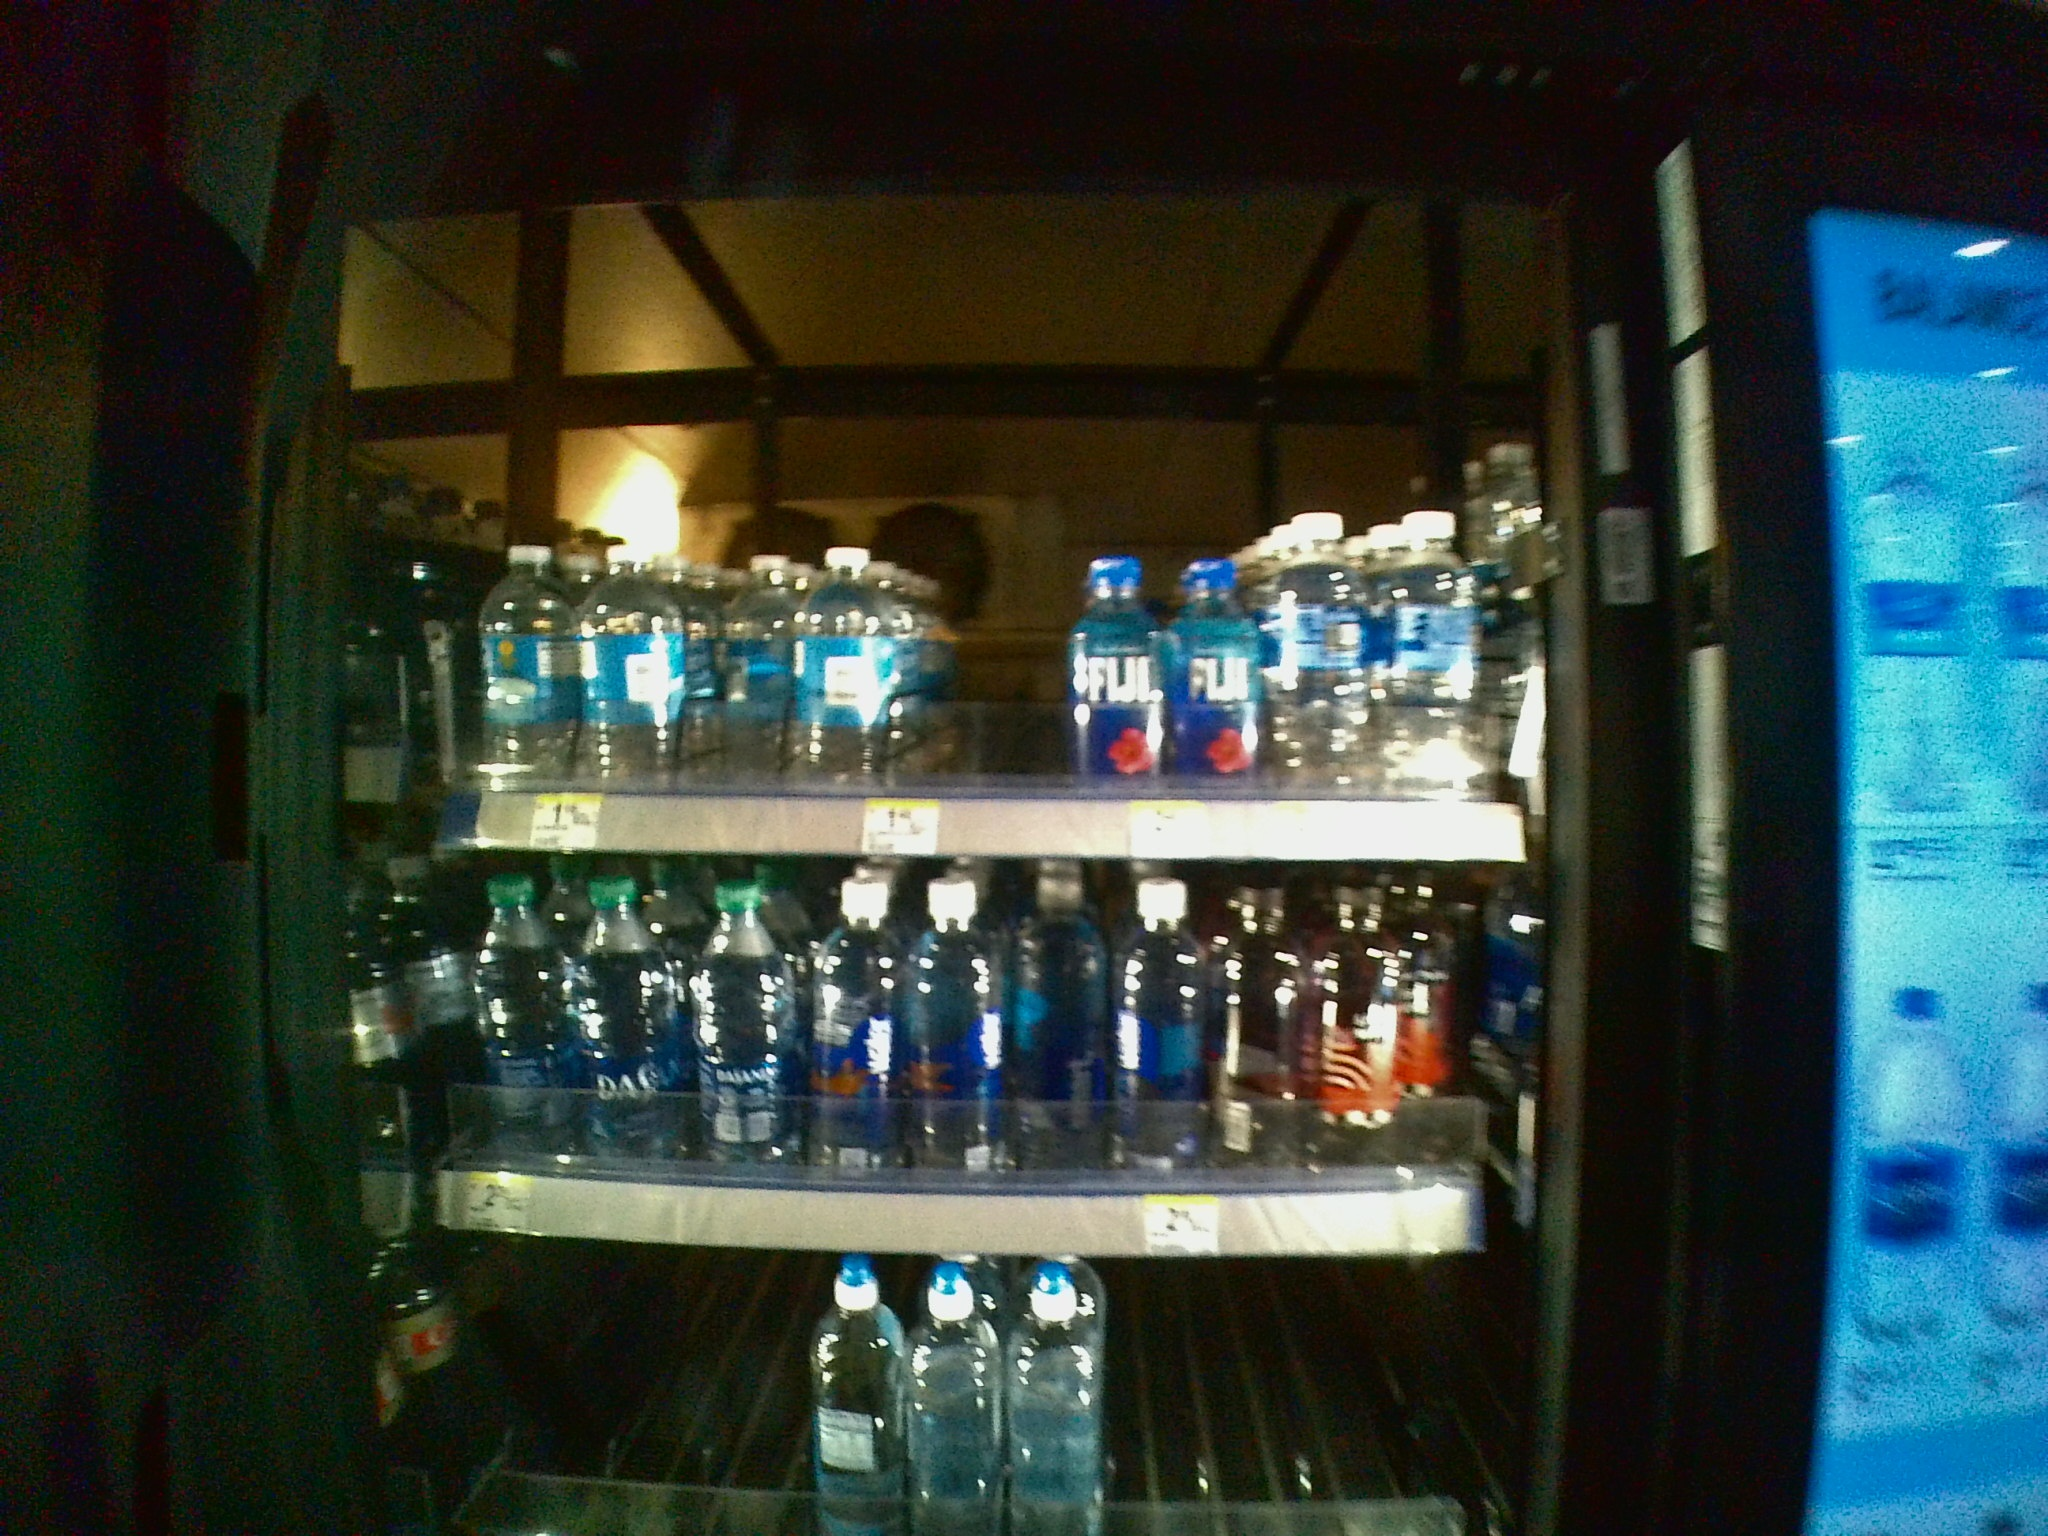Shelf: (369, 369, 1569, 858), (368, 862, 1571, 1250)
